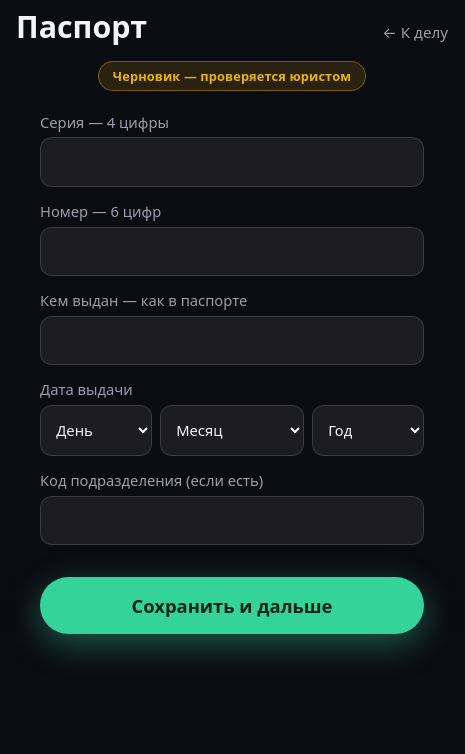
Test: SectionPage › keeps the form and the typed data when the save itself fails (AI-004)
This screenshot has width=465, height=754.
Step 1. Type "4519" into the field labelled "Серия — 4 цифры" → (232, 162), box [40, 137, 424, 187]
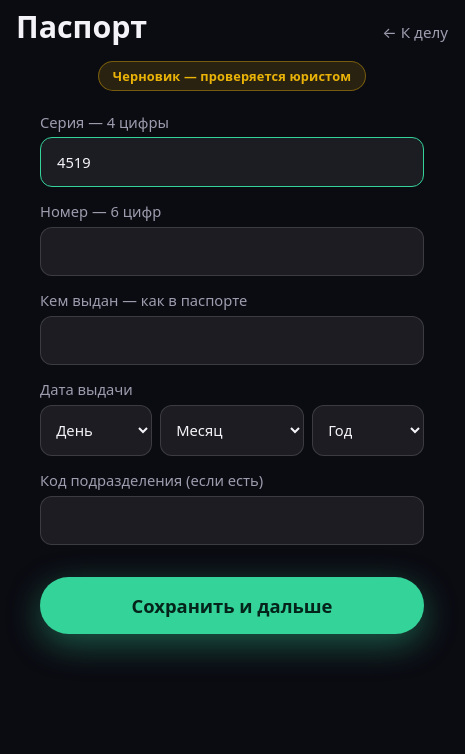
Step 2. Click the button "Сохранить и дальше" → (232, 606), box [40, 577, 424, 634]
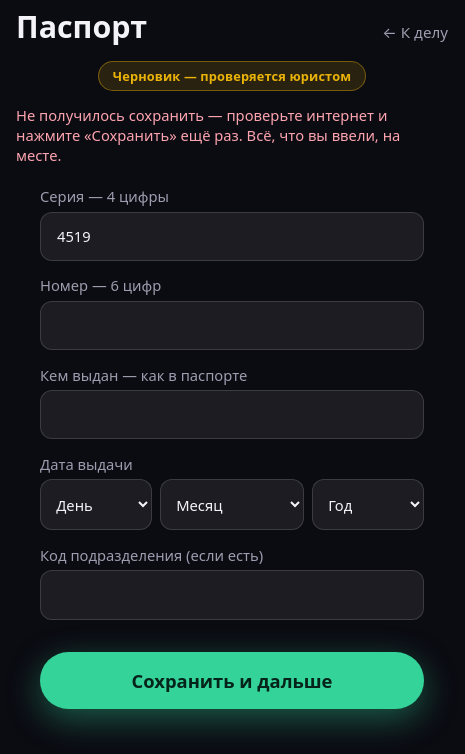
expect the button "Сохранить и дальше" is enabled: met, box [40, 652, 424, 709]
expect the message shows "Не получилось сохранить": met, box [16, 105, 400, 165]
